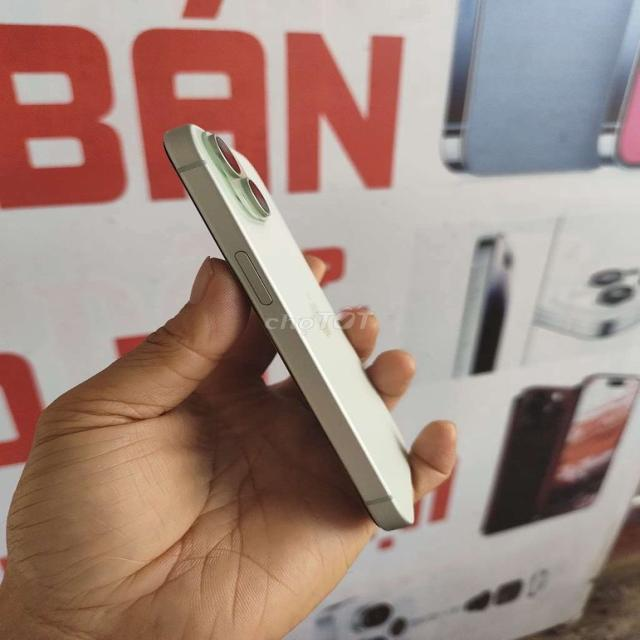gen_15: (140, 118, 450, 536)
